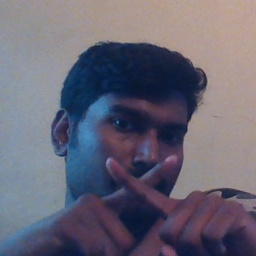X: (80, 146, 200, 256)
